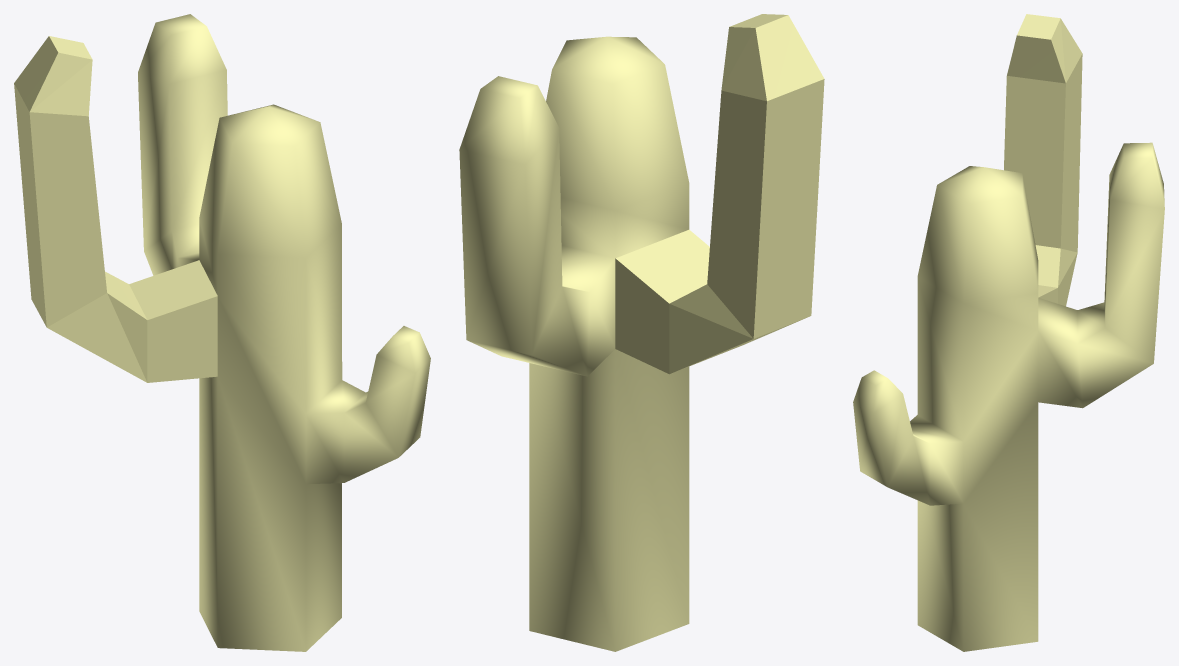
The picture shows the model from 3 angles, left to right: view 1: azimuth 30°, elevation 25°; view 2: azimuth 150°, elevation 25°; view 3: azimuth 270°, elevation 25°; orthographic projection. The views are drawn at different scales.
Parts seen in each view (by area): view 1: Object25; view 2: Object25; view 3: Object25.
Part boxes in pixels (<box>): Object25: <box>14,14,430,651</box>; Object25: <box>459,14,824,651</box>; Object25: <box>853,14,1164,651</box>.
Bounding box in the file's own units: 64.69 × 117 × 62.37.
